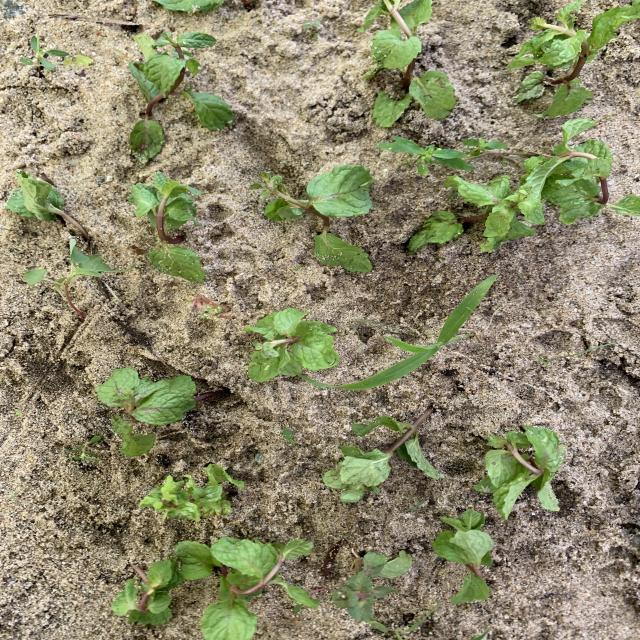crop: (422, 118, 639, 251), (509, 1, 638, 115), (174, 538, 317, 639), (360, 1, 455, 126), (261, 166, 374, 271), (128, 55, 234, 159), (323, 413, 442, 502), (408, 176, 536, 253), (95, 370, 198, 455), (475, 427, 566, 519), (131, 173, 206, 280), (244, 309, 338, 381), (139, 464, 244, 521), (433, 510, 494, 602), (7, 172, 89, 237), (112, 559, 183, 623)
weed: (304, 276, 495, 389), (333, 556, 403, 622), (380, 137, 438, 175), (157, 32, 215, 57), (22, 36, 55, 71), (514, 74, 543, 103), (67, 435, 102, 459), (251, 172, 282, 199), (463, 138, 507, 155), (439, 149, 474, 170), (23, 269, 46, 284), (304, 21, 319, 36), (406, 500, 423, 511), (283, 428, 295, 443), (535, 357, 551, 368), (186, 187, 201, 195), (15, 411, 22, 415)
